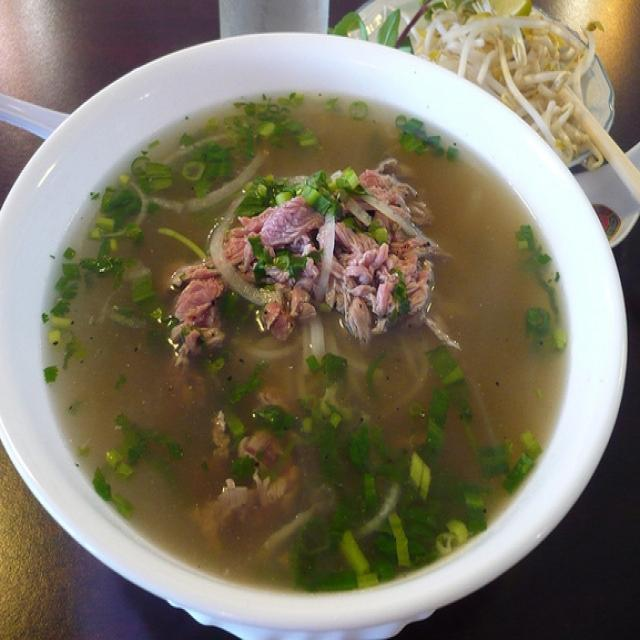面条主食: (21, 31, 601, 605)
